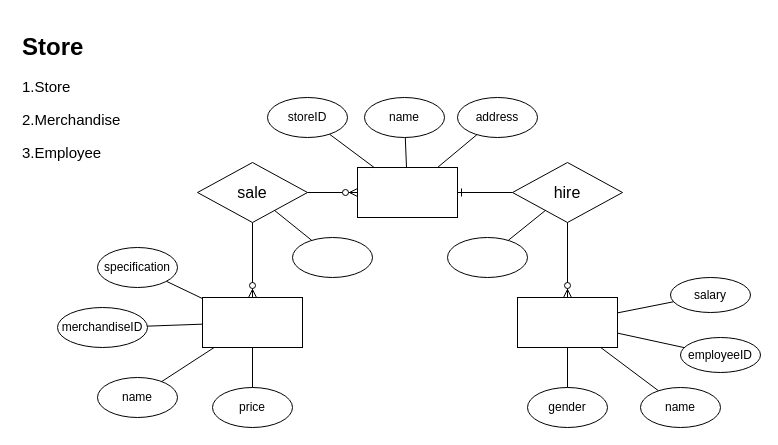
Image size: 778x445. Some labels were removed from this diagram. The shapes that lost their labels are listed below. From the top down, each one's box as (x1, y1, x2, y2) in pixels, then its label:
(356, 166, 458, 218): Store
(292, 236, 372, 278): sale_date
(446, 236, 528, 278): hire_date
(202, 296, 302, 348): Merchandise
(516, 296, 618, 348): Employee
